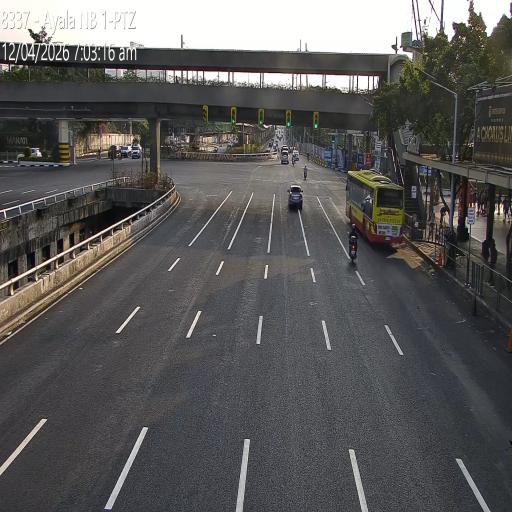Car: (288, 184, 303, 210), (128, 143, 142, 158), (120, 143, 132, 160), (109, 144, 120, 158)
Motor: (348, 232, 358, 263), (118, 147, 123, 162), (302, 166, 306, 177), (303, 170, 307, 180), (292, 156, 296, 166)
